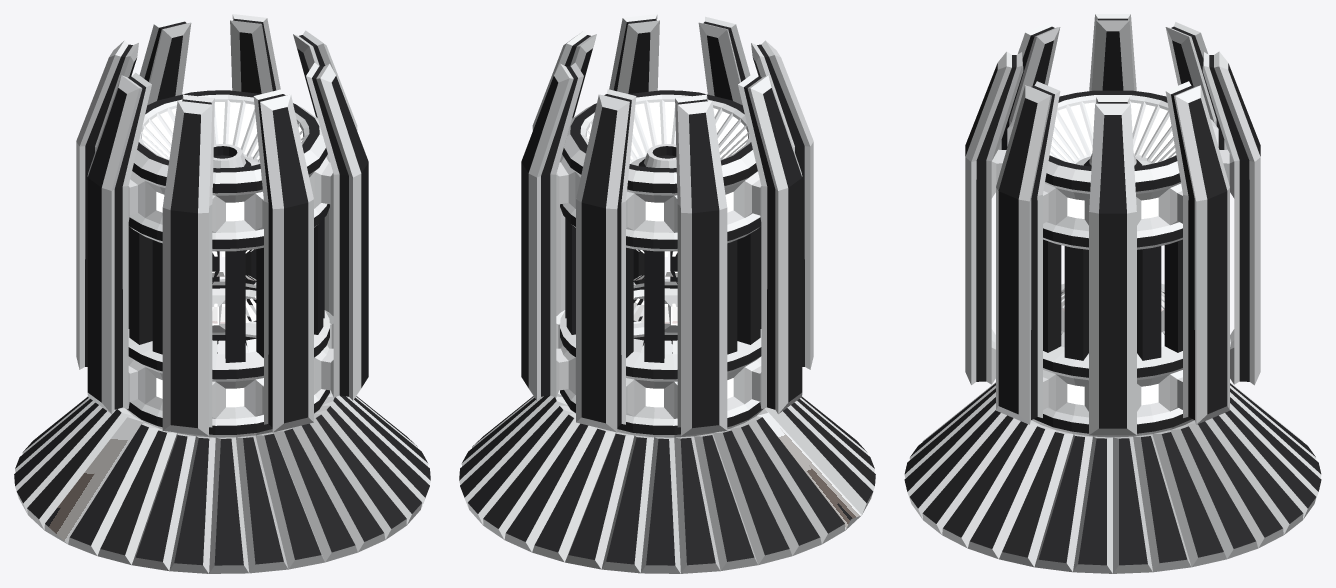
File: FUT0410042.fbx
The picture shows the model from 3 angles, left to right: view 1: azimuth 30°, elevation 25°; view 2: azimuth 150°, elevation 25°; view 3: azimuth 270°, elevation 25°; orthographic projection.
Visible parts, largest first — view 1: smFUT0410042; view 2: smFUT0410042; view 3: smFUT0410042.
Part boxes in pixels (x1,y1,x2,y2): smFUT0410042: (14,14,430,573); smFUT0410042: (459,14,875,573); smFUT0410042: (904,14,1321,573).
Size of the model in its own units: 950 by 1077 by 950.
